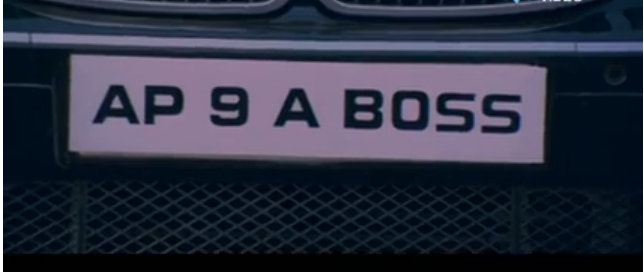number_plate: (68, 51, 549, 170)
